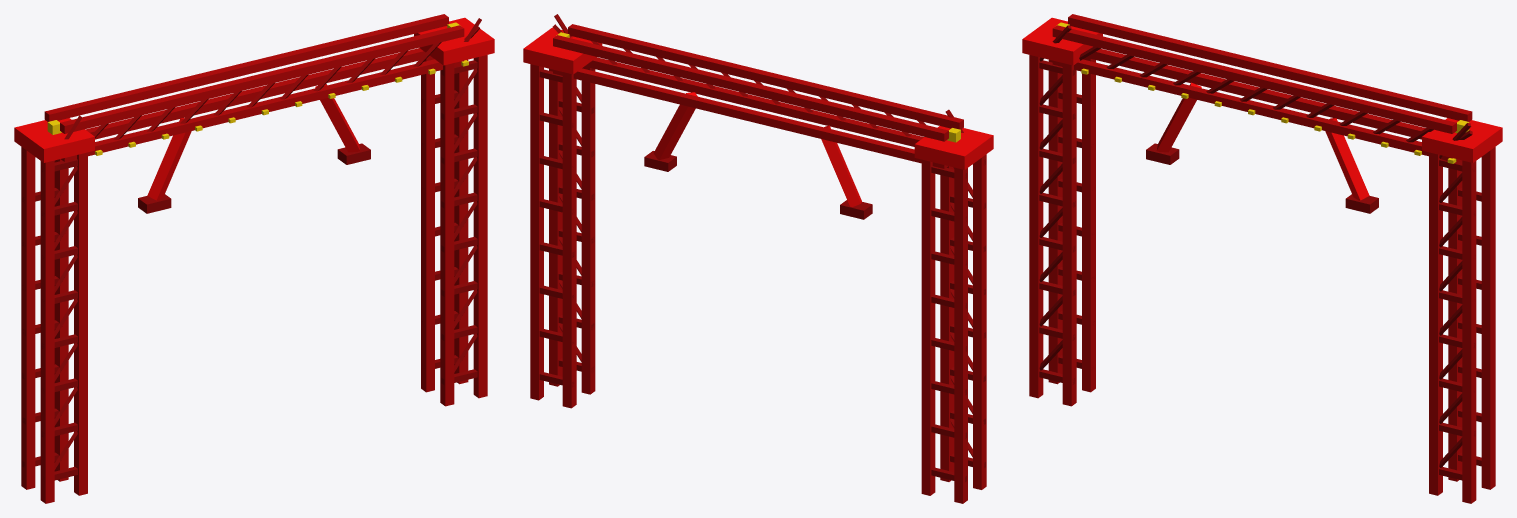
File: dock_gantry.glb
3 views of the same model, side by side, from view 1: azimuth 30°, elevation 25°; view 2: azimuth 150°, elevation 25°; view 3: azimuth 330°, elevation 25° (orthographic). The views are drawn at different scales.
Parts seen in each view (by area): view 1: dock_gantry; view 2: dock_gantry; view 3: dock_gantry.
Boxes of the visible parts, <box> form: dock_gantry: <box>14,14,494,503</box>; dock_gantry: <box>523,14,993,503</box>; dock_gantry: <box>1022,14,1502,503</box>.
Size of the model in its own units: 40.6 by 32.53 by 4.6.
